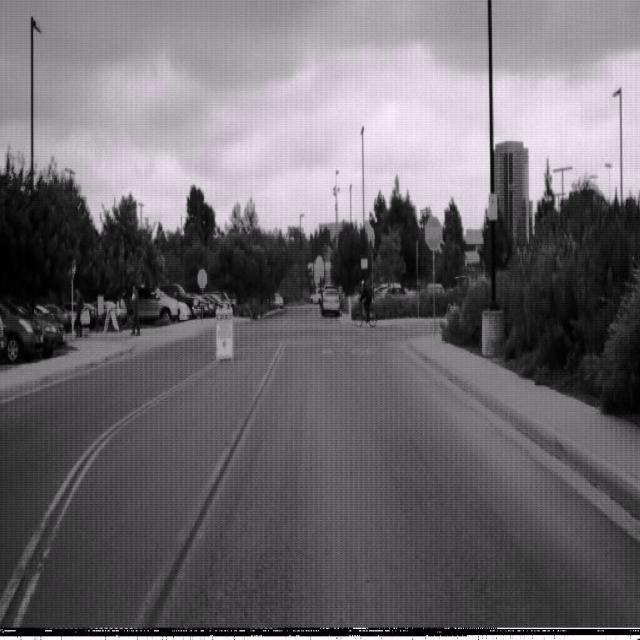stop: (423, 215, 442, 250)
